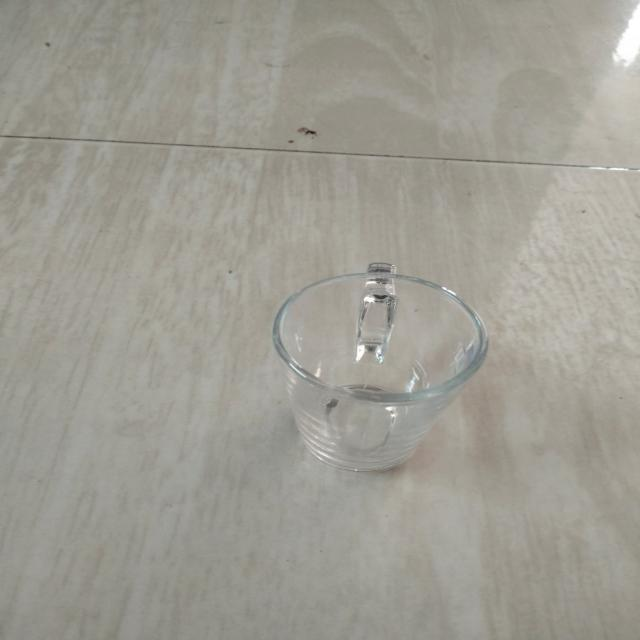glass-VX4N: (267, 266, 491, 472)
